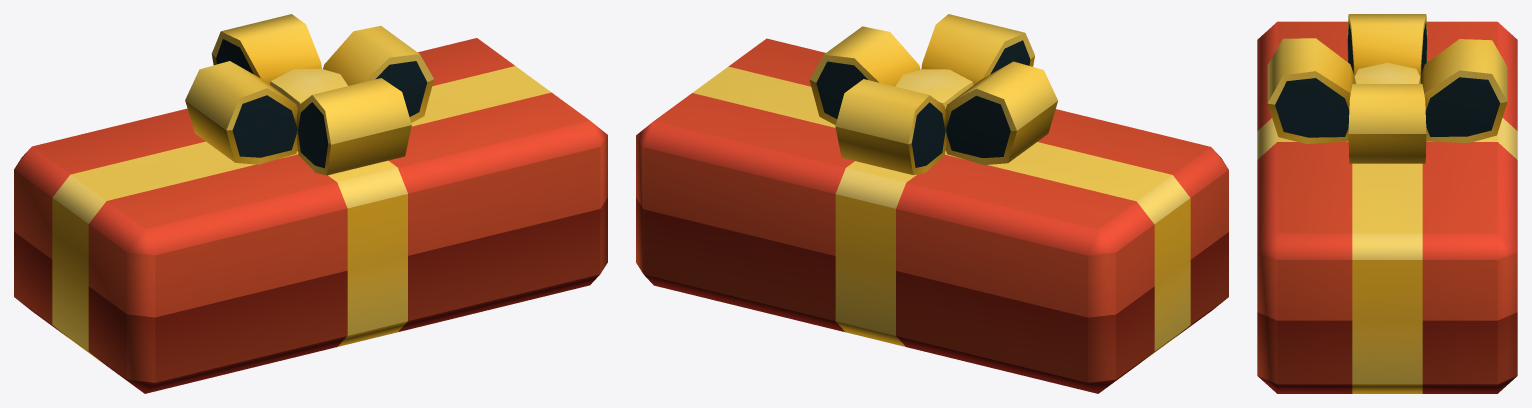
The model's file is presi_square_3_red.fbx.
3 renders of one model, left to right at view 1: azimuth 30°, elevation 25°; view 2: azimuth 150°, elevation 25°; view 3: azimuth 270°, elevation 25°, orthographic. The views are drawn at different scales.
Parts seen in each view (by area): view 1: presi_square_3_red; view 2: presi_square_3_red; view 3: presi_square_3_red.
Boxes of the visible parts, box(x1,y1,x2,y2) form: presi_square_3_red: box(14, 14, 607, 393); presi_square_3_red: box(636, 14, 1228, 393); presi_square_3_red: box(1257, 14, 1517, 393).
Size of the model in its own units: 156 by 74 by 75.
1 material, 1 textured.
